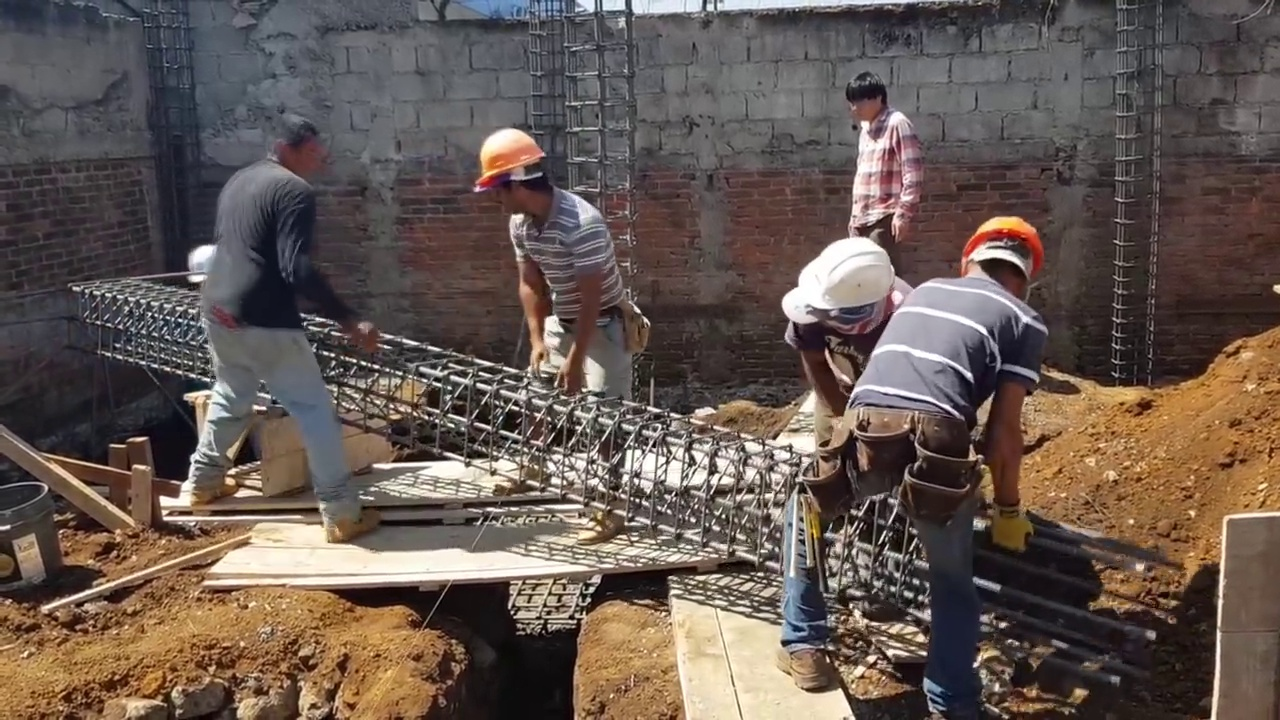helmet: (798, 241, 898, 311), (966, 216, 1045, 287), (472, 131, 547, 192), (183, 238, 218, 291)
helmet-off: (266, 116, 329, 182), (846, 70, 891, 124)
helmet-on: (794, 236, 903, 343), (472, 125, 556, 225), (956, 215, 1045, 301)
person: (781, 215, 1045, 720), (184, 101, 386, 540), (468, 121, 634, 545), (780, 236, 931, 459), (845, 70, 925, 259)
